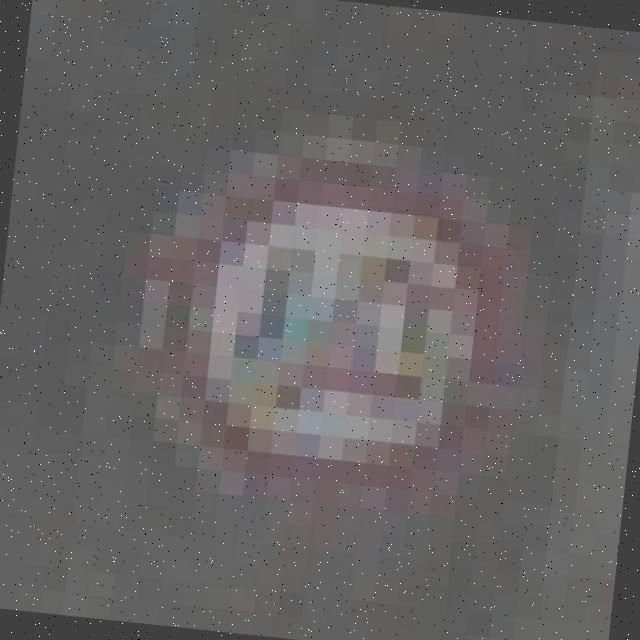Ograniczenie predkosci do 60: (23, 27, 640, 602)
